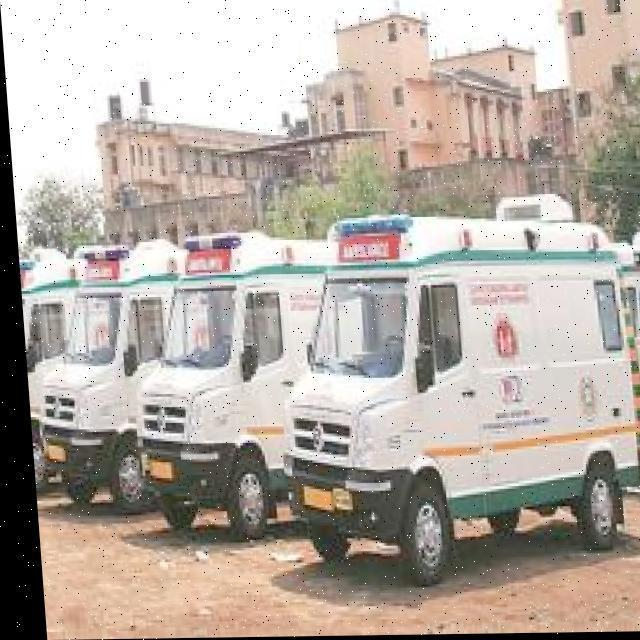Ambulance: (11, 190, 640, 593), (26, 444, 640, 637)
